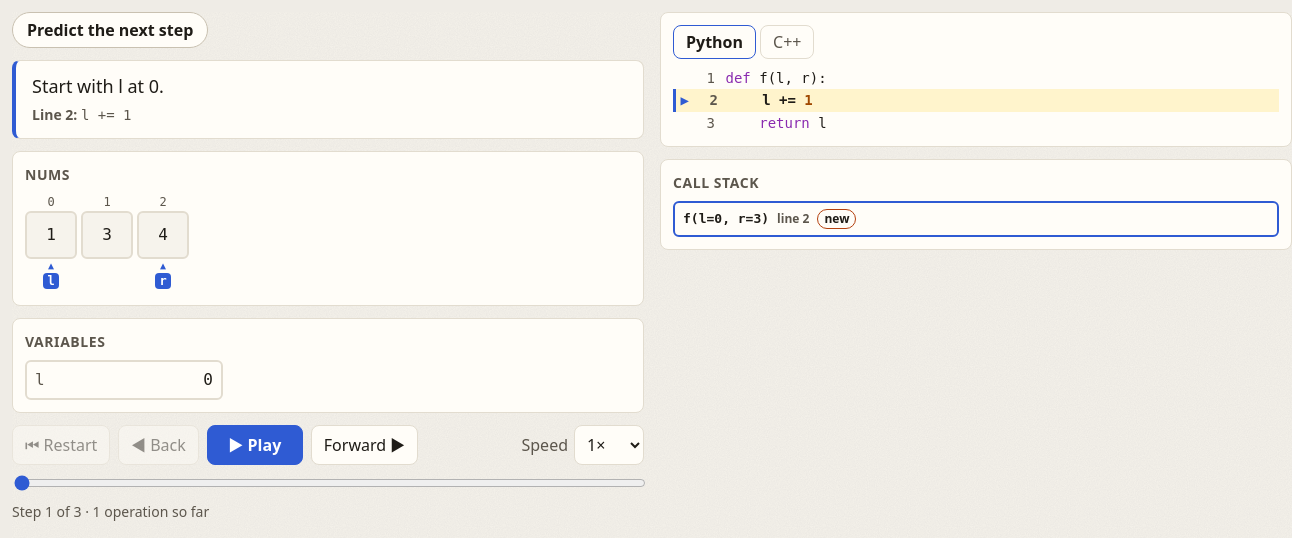
Test: Space plays to the end at the chosen speed
Select "2×" in the dropdown labelled "Speed" at (609, 445), box [574,425,644,465]
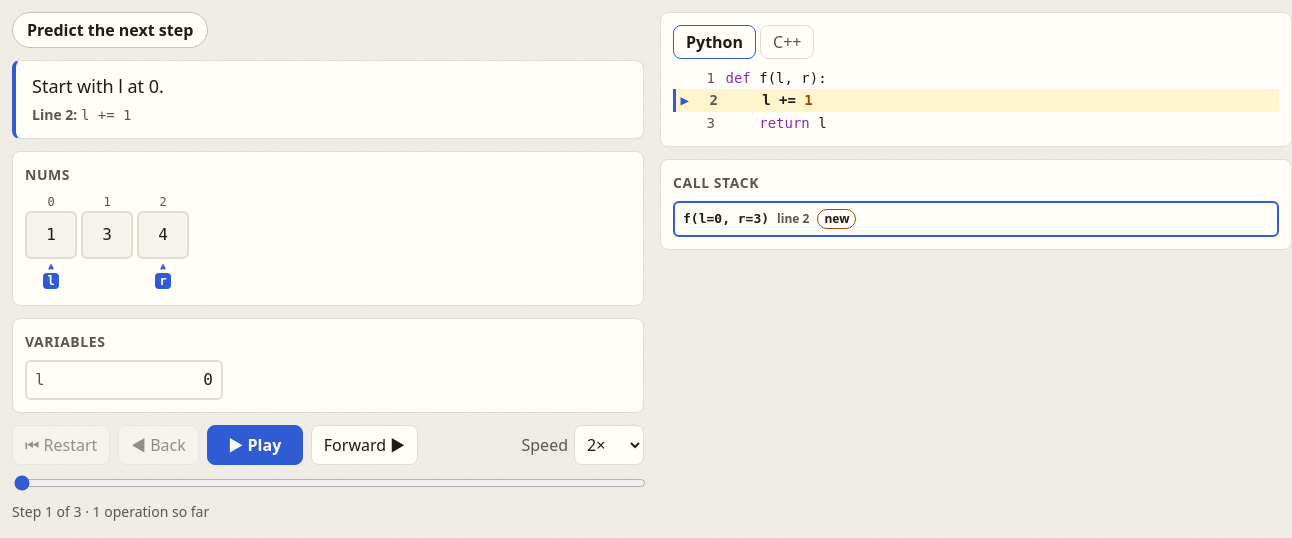
Press Space
Wait 1455 ms
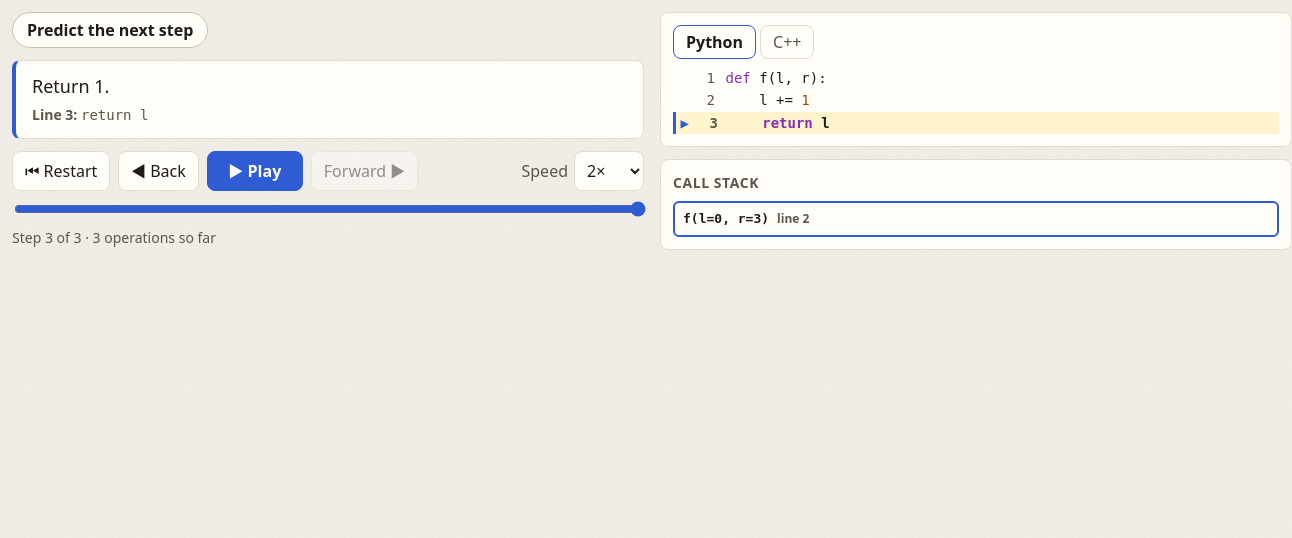
Expected: the button "▶ Play" is shown, [207,151,303,191]
Now the text "Return 1." is shown, box [32,74,109,98]
